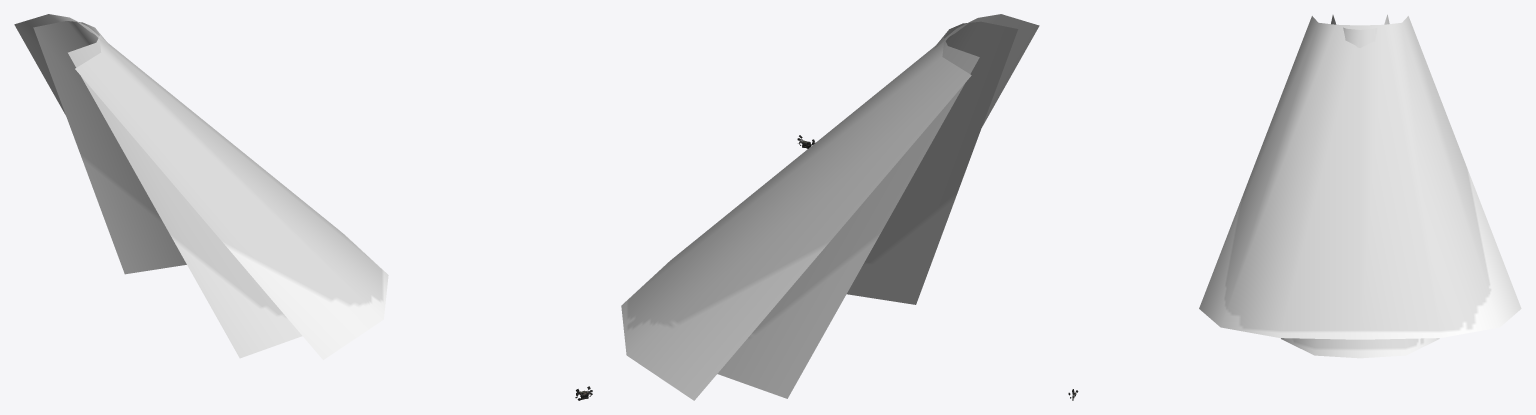
3 views of the same model, side by side, from view 1: azimuth 30°, elevation 25°; view 2: azimuth 150°, elevation 25°; view 3: azimuth 270°, elevation 25° (orthographic). The views are drawn at different scales.
Visible parts, largest first — view 1: S_Outworld_light_mesh1, S_Outworld_light_mesh2; view 2: S_Outworld_light_mesh1, S_Outworld_light_mesh2; view 3: S_Outworld_light_mesh1, S_Outworld_light_mesh2.
Part boxes in pixels (x1,y1,x2,y2): S_Outworld_light_mesh1: (14, 14, 388, 359); S_Outworld_light_mesh2: (33, 21, 302, 358); S_Outworld_light_mesh1: (621, 14, 1039, 400); S_Outworld_light_mesh2: (717, 21, 1018, 398); S_Outworld_light_mesh1: (1199, 16, 1521, 339); S_Outworld_light_mesh2: (1281, 14, 1439, 358).
Bounding box in the file's own units: 4.36 × 3.6 × 5.87.
3 materials, 3 textured.
